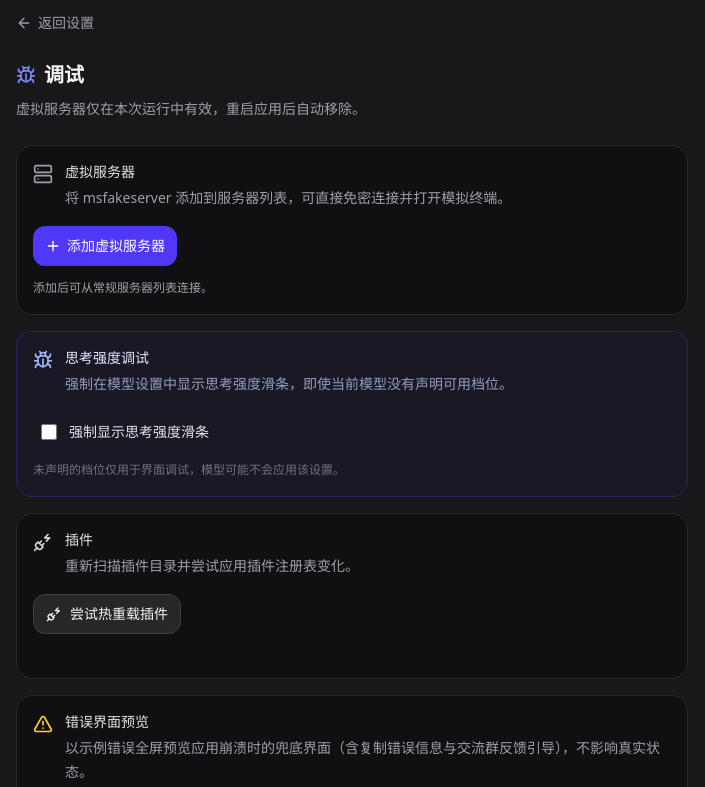
DebugPage › disables plugin reload and prevents duplicate requests while it is pending
Click the button "尝试热重载插件" at (107, 614), box x1=33 y1=594 x2=181 y2=634
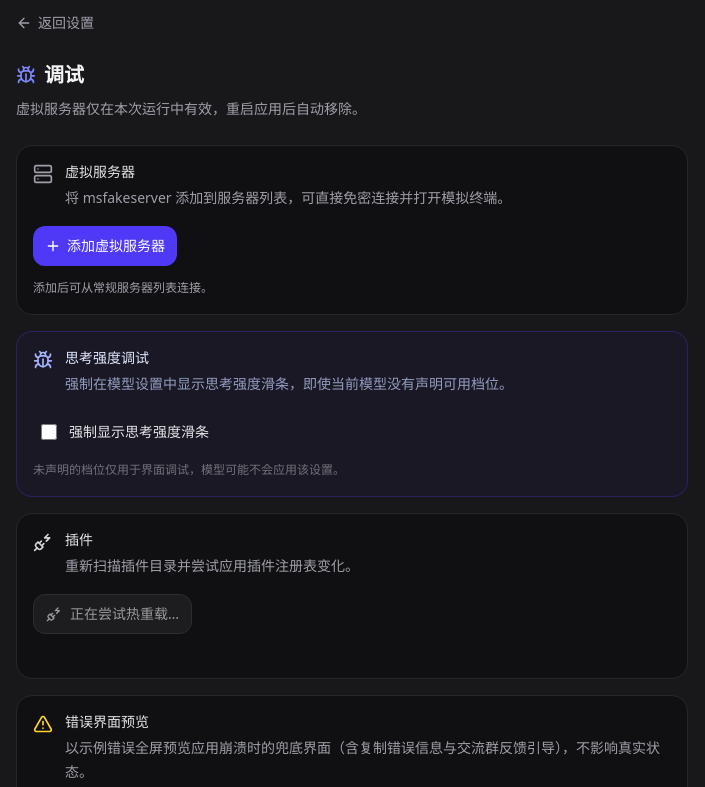
Check: the button "正在尝试热重载…" is disabled
Check: the button "正在尝试热重载…" is shown
Click the button "正在尝试热重载…" at (113, 614), box x1=33 y1=594 x2=192 y2=634
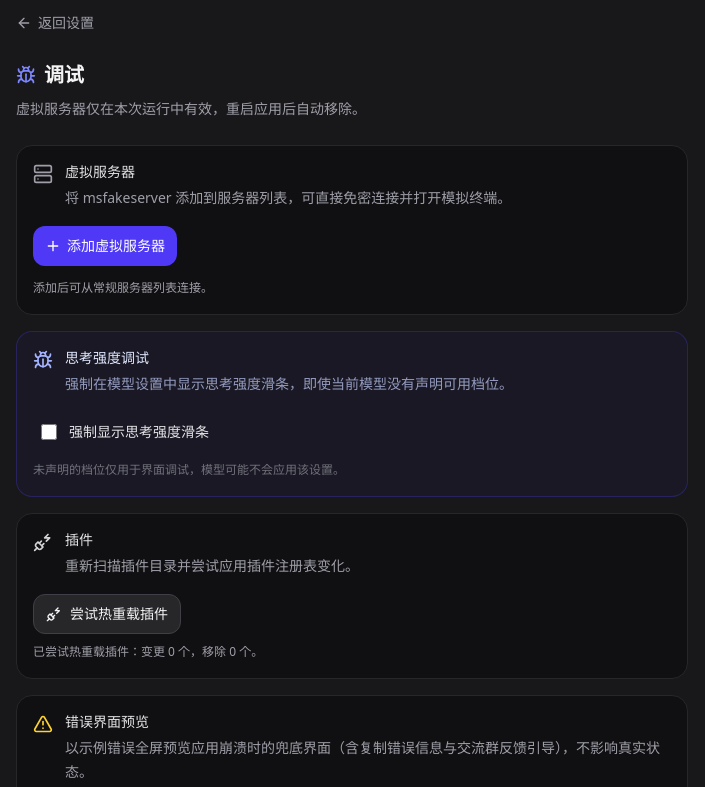
Check: the button "尝试热重载插件" is enabled, box x1=33 y1=594 x2=181 y2=634
Check: the text "变更 0 个" is shown, box x1=33 y1=643 x2=263 y2=660
